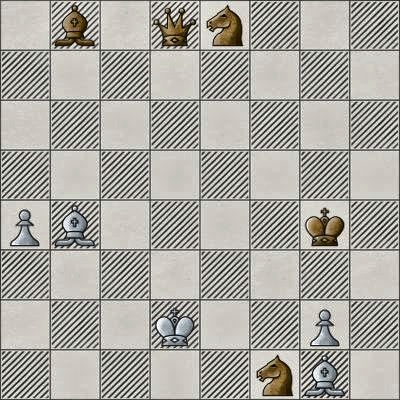black-bishop: (50, 0, 100, 50)
black-king: (300, 200, 350, 250)
black-knight: (200, 0, 250, 50), (250, 350, 300, 400)
black-queen: (150, 0, 200, 50)
white-bishop: (50, 200, 100, 250), (300, 350, 350, 400)
white-king: (150, 300, 200, 350)
white-pawn: (0, 200, 50, 250), (300, 300, 350, 350)
